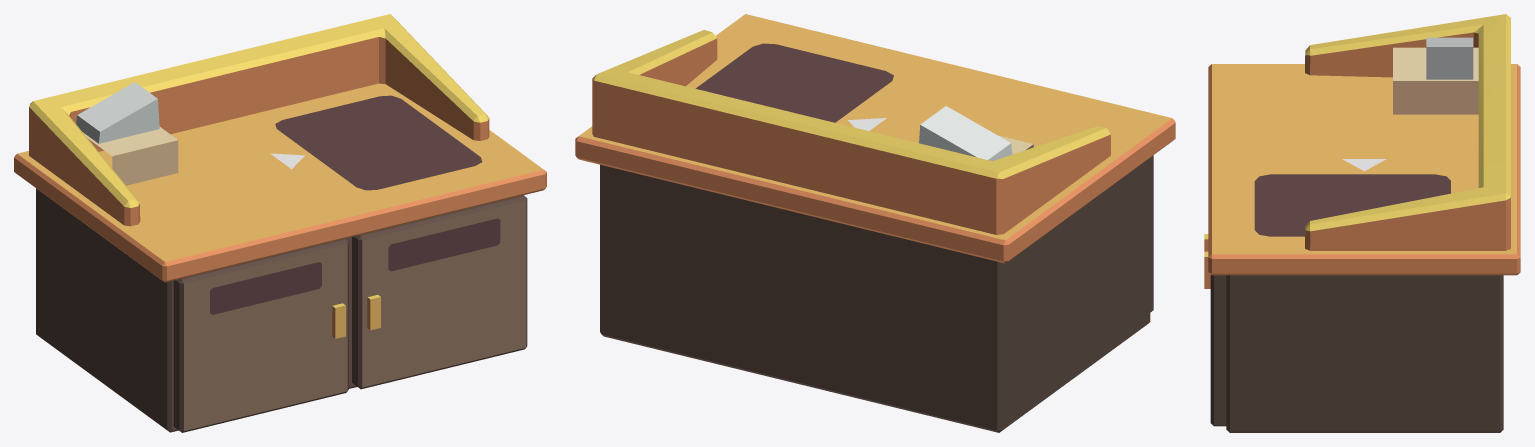
The model's file is Dumpster.fbx.
3 renders of one model, left to right at view 1: azimuth 30°, elevation 25°; view 2: azimuth 150°, elevation 25°; view 3: azimuth 270°, elevation 25°, orthographic. The views are drawn at different scales.
Parts seen in each view (by area): view 1: Dumpster; view 2: Dumpster; view 3: Dumpster.
Part boxes in pixels (x1,y1,x2,y2): Dumpster: [14, 14, 546, 432]; Dumpster: [575, 14, 1175, 432]; Dumpster: [1204, 14, 1520, 432].
Size of the model in its own units: 96.69 by 58.56 by 66.8.
